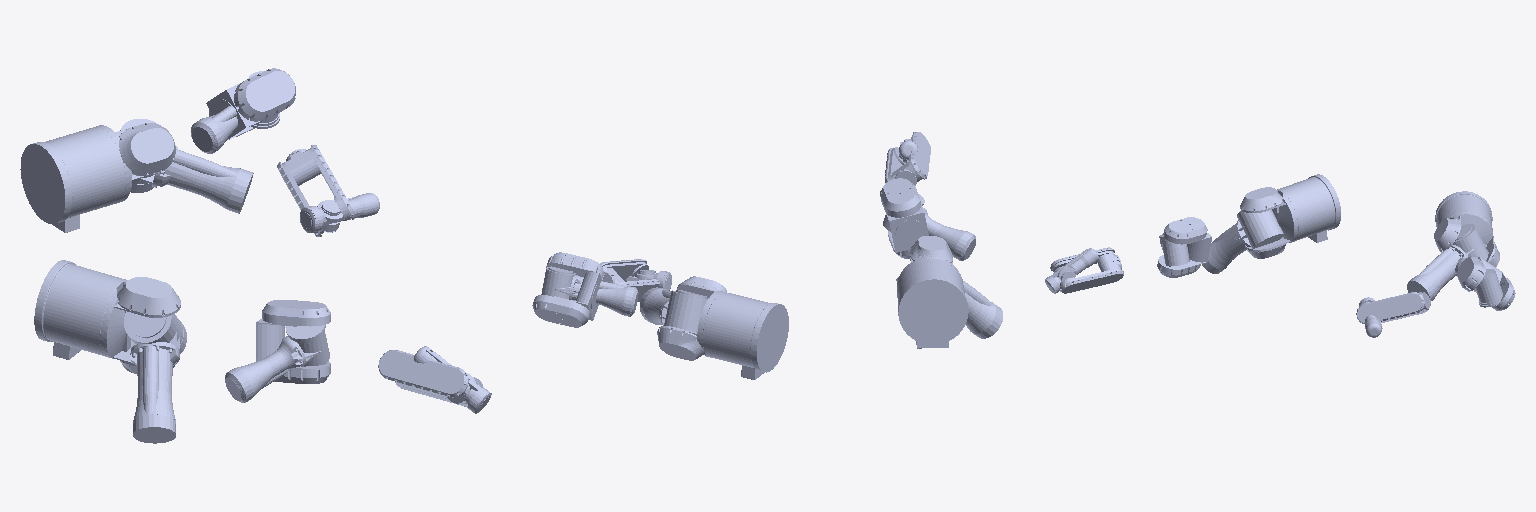
The robot description file, URDF, robot "dual_arm_pa10":
<robot
  name="dual_arm_pa10">
  <link
    name="base_link">
    <inertial>
      <origin
        xyz="-0.555507522352584 -1.65042128673303 -0.217101228771685"
        rpy="0 0 0" />
      <mass
        value="97.6917917377576" />
      <inertia
        ixx="40.4740750778419"
        ixy="-0.229482797122451"
        ixz="-16.9093482209195"
        iyy="45.3093503314469"
        iyz="7.1380697923764"
        izz="30.5785915439064" />
    </inertial>
    <visual>
      <origin
        xyz="0 0 0"
        rpy="0 0 0" />
      <geometry>
        <mesh
          filename="package://dual_arm_pa10_description/meshes/base_link.STL" />
      </geometry>
      <material
        name="">
        <color
          rgba="0.752941176470588 0.752941176470588 0.752941176470588 1" />
      </material>
    </visual>
    <collision>
      <origin
        xyz="0 0 0"
        rpy="0 0 0" />
      <geometry>
        <mesh
          filename="package://dual_arm_pa10_description/meshes/base_link.STL" />
      </geometry>
    </collision>
  </link>
  <link
    name="left_arm_link1">
    <inertial>
      <origin
        xyz="-0.0990893449544722 -0.00249341785325718 -0.0014162454500033"
        rpy="0 0 0" />
      <mass
        value="7.94934699323051" />
      <inertia
        ixx="0.0504677524184006"
        ixy="-0.000774791198524652"
        ixz="-0.000440076287254469"
        iyy="0.0516876870322434"
        iyz="0.00109756557708091"
        izz="0.0529966322188422" />
    </inertial>
    <visual>
      <origin
        xyz="0 0 0"
        rpy="0 0 0" />
      <geometry>
        <mesh
          filename="package://dual_arm_pa10_description/meshes/left_arm_link1.STL" />
      </geometry>
      <material
        name="">
        <color
          rgba="0.796078431372549 0.823529411764706 0.937254901960784 1" />
      </material>
    </visual>
    <collision>
      <origin
        xyz="0 0 0"
        rpy="0 0 0" />
      <geometry>
        <mesh
          filename="package://dual_arm_pa10_description/meshes/left_arm_link1.STL" />
      </geometry>
    </collision>
  </link>
  <joint
    name="left_arm_joint1"
    type="fixed">
    <origin
      xyz="-0.825145544061466 -1.25307055504876 0.636477580278836"
      rpy="1.5707963267949 0.0284335968117168 -3.09514696623158" />
    <parent
      link="base_link" />
    <child
      link="left_arm_link1" />
    <axis
      xyz="0 0 0" />
  </joint>
  <link
    name="left_arm_link2">
    <inertial>
      <origin
        xyz="-0.264301619913095 -2.76250164082947E-05 -9.6935392693176E-05"
        rpy="0 0 0" />
      <mass
        value="2.7310377376062" />
      <inertia
        ixx="0.0244683816547645"
        ixy="-6.49243268067506E-06"
        ixz="-2.50224500514501E-06"
        iyy="0.0141012726454577"
        iyz="-0.00566836100673695"
        izz="0.0240473671043853" />
    </inertial>
    <visual>
      <origin
        xyz="0 0 0"
        rpy="0 0 0" />
      <geometry>
        <mesh
          filename="package://dual_arm_pa10_description/meshes/left_arm_link2.STL" />
      </geometry>
      <material
        name="">
        <color
          rgba="0.796078431372549 0.823529411764706 0.937254901960784 1" />
      </material>
    </visual>
    <collision>
      <origin
        xyz="0 0 0"
        rpy="0 0 0" />
      <geometry>
        <mesh
          filename="package://dual_arm_pa10_description/meshes/left_arm_link2.STL" />
      </geometry>
    </collision>
  </link>
  <joint
    name="left_arm_joint2"
    type="revolute">
    <origin
      xyz="0 0 0"
      rpy="-2.1684E-19 0 -3.4423E-18" />
    <parent
      link="left_arm_link1" />
    <child
      link="left_arm_link2" />
    <axis
      xyz="1 0 0" />
    <limit
      upper="3.08823"
      lower="-3.08823" 
      effort="10000"
      velocity="10" />
  </joint>
  <link
    name="left_arm_link3">
    <inertial>
      <origin
        xyz="-0.0437020078273007 0.0201807384969035 0.0919936313948935"
        rpy="0 0 0" />
      <mass
        value="4.68020201917654" />
      <inertia
        ixx="0.0640552019140096"
        ixy="4.05206905839881E-07"
        ixz="1.57128361053048E-06"
        iyy="0.0638016370383407"
        iyz="0.0115019100601524"
        izz="0.0139090195725392" />
    </inertial>
    <visual>
      <origin
        xyz="0 0 0"
        rpy="0 0 0" />
      <geometry>
        <mesh
          filename="package://dual_arm_pa10_description/meshes/left_arm_link3.STL" />
      </geometry>
      <material
        name="">
        <color
          rgba="0.796078431372549 0.823529411764706 0.937254901960784 1" />
      </material>
    </visual>
    <collision>
      <origin
        xyz="0 0 0"
        rpy="0 0 0" />
      <geometry>
        <mesh
          filename="package://dual_arm_pa10_description/meshes/left_arm_link3.STL" />
      </geometry>
    </collision>
  </link>
  <joint
    name="left_arm_joint3"
    type="revolute">
    <origin
      xyz="-0.315500000000003 -0.0410165202636339 0.0185106743659957"
      rpy="1.63982850832689 -0.423929613598005 -1.5707963267949" />
    <parent
      link="left_arm_link2" />
    <child
      link="left_arm_link3" />
    <axis
      xyz="-1 0 0" />
        <limit
      upper="1.58725" 
      lower="-1.58725" 
      effort="10000"
      velocity="10" />
  </joint>
  <link
    name="left_arm_link4">
    <inertial>
      <origin
        xyz="0.0770144259784842 0.00148626917704375 0.000635508689203812"
        rpy="0 0 0" />
      <mass
        value="2.35409067807949" />
      <inertia
        ixx="0.0145010964698539"
        ixy="0.000250497590177181"
        ixz="8.57909539156733E-05"
        iyy="0.00960614995288886"
        iyz="0.00282720741589722"
        izz="0.0180549888659777" />
    </inertial>
    <visual>
      <origin
        xyz="0 0 0"
        rpy="0 0 0" />
      <geometry>
        <mesh
          filename="package://dual_arm_pa10_description/meshes/left_arm_link4.STL" />
      </geometry>
      <material
        name="">
        <color
          rgba="0.796078431372549 0.823529411764706 0.937254901960784 1" />
      </material>
    </visual>
    <collision>
      <origin
        xyz="0 0 0"
        rpy="0 0 0" />
      <geometry>
        <mesh
          filename="package://dual_arm_pa10_description/meshes/left_arm_link4.STL" />
      </geometry>
    </collision>
  </link>
  <joint
    name="left_arm_joint4"
    type="revolute">
    <origin
      xyz="-0.0419999999999998 0.0674051292770802 0.307192634172875"
      rpy="-0.416063817143622 -1.35479645114884 1.5707963267949" />
    <parent
      link="left_arm_link3" />
    <child
      link="left_arm_link4" />
    <axis
      xyz="-1 0 0" />
        <limit
      upper="3.03587" 
      lower="-3.03587"
      effort="10000"
      velocity="10" />
  </joint>
  <link
    name="left_arm_link5">
    <inertial>
      <origin
        xyz="0.0557957612103193 -0.0847616079886823 -0.00203557437514561"
        rpy="0 0 0" />
      <mass
        value="2.05851591363861" />
      <inertia
        ixx="0.0201272337149153"
        ixy="0.000608483891747073"
        ixz="1.56384202641586E-05"
        iyy="0.0029354076975442"
        iyz="0.000430074997588907"
        izz="0.0208996370775355" />
    </inertial>
    <visual>
      <origin
        xyz="0 0 0"
        rpy="0 0 0" />
      <geometry>
        <mesh
          filename="package://dual_arm_pa10_description/meshes/left_arm_link5.STL" />
      </geometry>
      <material
        name="">
        <color
          rgba="0.796078431372549 0.823529411764706 0.937254901960784 1" />
      </material>
    </visual>
    <collision>
      <origin
        xyz="0 0 0"
        rpy="0 0 0" />
      <geometry>
        <mesh
          filename="package://dual_arm_pa10_description/meshes/left_arm_link5.STL" />
      </geometry>
    </collision>
  </link>
  <joint
    name="left_arm_joint5"
    type="revolute">
    <origin
      xyz="0.136002290415426 0.0535829126405543 0.0162748824339065"
      rpy="-1.27491991617733 0.295199821145676 -1.57079632679489" />
    <parent
      link="left_arm_link4" />
    <child
      link="left_arm_link5" />
    <axis
      xyz="-1 0 0" />
        <limit
      upper="2.3901"
      lower="-2.3901" 
      effort="10000"
      velocity="10" />
  </joint>
  <link
    name="left_arm_link6">
    <inertial>
      <origin
        xyz="-0.114795470764761 0.000699693476092333 -2.73723221239502E-05"
        rpy="0 0 0" />
      <mass
        value="1.371197775989" />
      <inertia
        ixx="0.00333020319367068"
        ixy="-0.000116558855928963"
        ixz="-1.31426888505106E-05"
        iyy="0.00964721971591787"
        iyz="0.000251722579386805"
        izz="0.0117227531202603" />
    </inertial>
    <visual>
      <origin
        xyz="0 0 0"
        rpy="0 0 0" />
      <geometry>
        <mesh
          filename="package://dual_arm_pa10_description/meshes/left_arm_link6.STL" />
      </geometry>
      <material
        name="">
        <color
          rgba="0.796078431372549 0.823529411764706 0.937254901960784 1" />
      </material>
    </visual>
    <collision>
      <origin
        xyz="0 0 0"
        rpy="0 0 0" />
      <geometry>
        <mesh
          filename="package://dual_arm_pa10_description/meshes/left_arm_link6.STL" />
      </geometry>
    </collision>
  </link>
  <joint
    name="left_arm_joint6"
    type="revolute">
    <origin
      xyz="0.0539997253029847 -0.261425869680373 -0.00623452178610013"
      rpy="-0.00757901029071751 -0.0238437178004684 1.5707963267949" />
    <parent
      link="left_arm_link5" />
    <child
      link="left_arm_link6" />
    <axis
      xyz="-1 0 0" />
        <limit
      upper="4.44059"
      lower="-4.44059" 
      effort="10000"
      velocity="10" />
  </joint>
  <link
    name="left_arm_link7">
    <inertial>
      <origin
        xyz="-0.00535247907135394 0.0191560955756953 -0.0247380697968124"
        rpy="0 0 0" />
      <mass
        value="0.749475997606934" />
      <inertia
        ixx="0.00379347780322518"
        ixy="1.75350974225649E-05"
        ixz="-2.3095980648119E-05"
        iyy="0.00260859869436425"
        iyz="-0.0016092467697378"
        izz="0.00159284506892114" />
    </inertial>
    <visual>
      <origin
        xyz="0 0 0"
        rpy="0 0 0" />
      <geometry>
        <mesh
          filename="package://dual_arm_pa10_description/meshes/left_arm_link7.STL" />
      </geometry>
      <material
        name="">
        <color
          rgba="0.796078431372549 0.823529411764706 0.937254901960784 1" />
      </material>
    </visual>
    <collision>
      <origin
        xyz="0 0 0"
        rpy="0 0 0" />
      <geometry>
        <mesh
          filename="package://dual_arm_pa10_description/meshes/left_arm_link7.STL" />
      </geometry>
    </collision>
  </link>
  <joint
    name="left_arm_joint7"
    type="revolute">
    <origin
      xyz="-0.238499999999999 0.00410291994215894 0.000373839717370386"
      rpy="-2.78411821151897 -0.118985412396407 1.57079632679489" />
    <parent
      link="left_arm_link6" />
    <child
      link="left_arm_link7" />
    <axis
      xyz="-1 0 0" />
        <limit
      upper="2.87979"
      lower="-2.87979" 
      effort="10000"
      velocity="10" />
  </joint>
  <link
    name="right_arm_link1">
    <inertial>
      <origin
        xyz="-0.0990893449885417 -0.00221210203872302 0.00182468787374401"
        rpy="0 0 0" />
      <mass
        value="7.94934695709389" />
      <inertia
        ixx="0.0504677520230315"
        ixy="-0.000687376581381377"
        ixz="0.000566993771661591"
        iyy="0.0520991189275065"
        iyz="-0.00125455789727977"
        izz="0.052585199923649" />
    </inertial>
    <visual>
      <origin
        xyz="0 0 0"
        rpy="0 0 0" />
      <geometry>
        <mesh
          filename="package://dual_arm_pa10_description/meshes/right_arm_link1.STL" />
      </geometry>
      <material
        name="">
        <color
          rgba="0.796078431372549 0.823529411764706 0.937254901960784 1" />
      </material>
    </visual>
    <collision>
      <origin
        xyz="0 0 0"
        rpy="0 0 0" />
      <geometry>
        <mesh
          filename="package://dual_arm_pa10_description/meshes/right_arm_link1.STL" />
      </geometry>
    </collision>
  </link>
  <joint
    name="right_arm_joint1"
    type="fixed">
    <origin
      xyz="-1.11175813641434 -1.80767325399646 0.573916002170496"
      rpy="1.5707963267949 -0.0713445717041827 2.14489912813932" />
    <parent
      link="base_link" />
    <child
      link="right_arm_link1" />
    <axis
      xyz="0 0 0" />
  </joint>
  <link
    name="right_arm_link2">
    <inertial>
      <origin
        xyz="-0.26430074701895 -5.94995160773104E-05 -8.07923039869429E-05"
        rpy="0 0 0" />
      <mass
        value="2.73095645322122" />
      <inertia
        ixx="0.0244689850962347"
        ixy="-7.58935472427557E-06"
        ixz="5.07021160189337E-07"
        iyy="0.0190395298910916"
        iyz="-0.00753947534796983"
        izz="0.0191086997402152" />
    </inertial>
    <visual>
      <origin
        xyz="0 0 0"
        rpy="0 0 0" />
      <geometry>
        <mesh
          filename="package://dual_arm_pa10_description/meshes/right_arm_link2.STL" />
      </geometry>
      <material
        name="">
        <color
          rgba="0.796078431372549 0.823529411764706 0.937254901960784 1" />
      </material>
    </visual>
    <collision>
      <origin
        xyz="0 0 0"
        rpy="0 0 0" />
      <geometry>
        <mesh
          filename="package://dual_arm_pa10_description/meshes/right_arm_link2.STL" />
      </geometry>
    </collision>
  </link>
  <joint
    name="right_arm_joint2"
    type="revolute">
    <origin
      xyz="0 0 0"
      rpy="0 5.55111512312578E-17 -2.08166817117217E-17" />
    <parent
      link="right_arm_link1" />
    <child
      link="right_arm_link2" />
    <axis
      xyz="-1 0 0" />
        <limit
      upper="3.08823"
      lower="-3.08823" 
      effort="10000"
      velocity="10" />
  </joint>
  <link
    name="right_arm_link3">
    <inertial>
      <origin
        xyz="-0.0437020079839598 0.00861084777811993 0.0937866995189534"
        rpy="0 0 0" />
      <mass
        value="4.68020214054429" />
      <inertia
        ixx="0.0640552088271957"
        ixy="2.12657946344411E-07"
        ixz="1.60794191713613E-06"
        iyy="0.0658656934626095"
        iyz="0.00500527892016412"
        izz="0.0118449696339646" />
    </inertial>
    <visual>
      <origin
        xyz="0 0 0"
        rpy="0 0 0" />
      <geometry>
        <mesh
          filename="package://dual_arm_pa10_description/meshes/right_arm_link3.STL" />
      </geometry>
      <material
        name="">
        <color
          rgba="0.796078431372549 0.823529411764706 0.937254901960784 1" />
      </material>
    </visual>
    <collision>
      <origin
        xyz="0 0 0"
        rpy="0 0 0" />
      <geometry>
        <mesh
          filename="package://dual_arm_pa10_description/meshes/right_arm_link3.STL" />
      </geometry>
    </collision>
  </link>
  <joint
    name="right_arm_joint3"
    type="revolute">
    <origin
      xyz="-0.315499999999999 -0.0319368027244318 0.0317023758062656"
      rpy="1.46969946685779 -0.781711269210409 -1.5707963267949" />
    <parent
      link="right_arm_link2" />
    <child
      link="right_arm_link3" />
    <axis
      xyz="-1 0 0" />
        <limit
      upper="1.58725" 
      lower="-1.58725" 
      effort="10000"
      velocity="10" />
  </joint>
  <link
    name="right_arm_link4">
    <inertial>
      <origin
        xyz="-0.0770144192900173 -0.00146988859066011 0.000672114471354845"
        rpy="0 0 0" />
      <mass
        value="2.35409632919604" />
      <inertia
        ixx="0.0145011364648668"
        ixy="0.000248292535091203"
        ixz="-9.19838669676694E-05"
        iyy="0.00975169292051933"
        iyz="-0.00303340235564235"
        izz="0.0179094852762262" />
    </inertial>
    <visual>
      <origin
        xyz="0 0 0"
        rpy="0 0 0" />
      <geometry>
        <mesh
          filename="package://dual_arm_pa10_description/meshes/right_arm_link4.STL" />
      </geometry>
      <material
        name="">
        <color
          rgba="0.796078431372549 0.823529411764706 0.937254901960784 1" />
      </material>
    </visual>
    <collision>
      <origin
        xyz="0 0 0"
        rpy="0 0 0" />
      <geometry>
        <mesh
          filename="package://dual_arm_pa10_description/meshes/right_arm_link4.STL" />
      </geometry>
    </collision>
  </link>
  <joint
    name="right_arm_joint4"
    type="revolute">
    <origin
      xyz="-0.042 0.0287698185108878 0.313182157036093"
      rpy="-2.3594227330078 1.47919053867106 -1.57079632679489" />
    <parent
      link="right_arm_link3" />
    <child
      link="right_arm_link4" />
    <axis
      xyz="-1 0 0" />
        <limit
      upper="3.03587" 
      lower="-3.03587"
      effort="10000"
      velocity="10" />
  </joint>
  <link
    name="right_arm_link5">
    <inertial>
      <origin
        xyz="-0.0487042375150544 -0.00360759548777567 -0.0847092564993757"
        rpy="0 0 0" />
      <mass
        value="2.05851565958655" />
      <inertia
        ixx="0.0201272331122399"
        ixy="2.48730564349846E-05"
        ixz="0.000608177417062807"
        iyy="0.0208772346589002"
        iyz="0.000766134011295065"
        izz="0.00295781712603303" />
    </inertial>
    <visual>
      <origin
        xyz="0 0 0"
        rpy="0 0 0" />
      <geometry>
        <mesh
          filename="package://dual_arm_pa10_description/meshes/right_arm_link5.STL" />
      </geometry>
      <material
        name="">
        <color
          rgba="0.796078431372549 0.823529411764706 0.937254901960784 1" />
      </material>
    </visual>
    <collision>
      <origin
        xyz="0 0 0"
        rpy="0 0 0" />
      <geometry>
        <mesh
          filename="package://dual_arm_pa10_description/meshes/right_arm_link5.STL" />
      </geometry>
    </collision>
  </link>
  <joint
    name="right_arm_joint5"
    type="revolute">
    <origin
      xyz="-0.136002290415432 0.0460318440149761 -0.0152748048060705"
      rpy="1.36781816034305 0.320026211951604 1.5707963267949" />
    <parent
      link="right_arm_link4" />
    <child
      link="right_arm_link5" />
    <limit
      upper="2.3901" 
     lower="-2.3901" 
      effort="10000"
      velocity="10" />
    <axis
      xyz="-1 0 0" />
  </joint>
  <link
    name="right_arm_link6">
    <inertial>
      <origin
        xyz="-0.123795462653187 0.000155037947671355 0.000682873705954767"
        rpy="0 0 0" />
      <mass
        value="1.37119769202921" />
      <inertia
        ixx="0.00333020300274464"
        ixy="-8.46849313525913E-06"
        ixz="-0.000116991533531673"
        iyy="0.0117436785375504"
        iyz="0.000139614984425959"
        izz="0.00962629185761271" />
    </inertial>
    <visual>
      <origin
        xyz="0 0 0"
        rpy="0 0 0" />
      <geometry>
        <mesh
          filename="package://dual_arm_pa10_description/meshes/right_arm_link6.STL" />
      </geometry>
      <material
        name="">
        <color
          rgba="0.796078431372549 0.823529411764706 0.937254901960784 1" />
      </material>
    </visual>
    <collision>
      <origin
        xyz="0 0 0"
        rpy="0 0 0" />
      <geometry>
        <mesh
          filename="package://dual_arm_pa10_description/meshes/right_arm_link6.STL" />
      </geometry>
    </collision>
  </link>
  <joint
    name="right_arm_joint6"
    type="revolute">
    <origin
      xyz="-0.0505000000000002 -0.0107859770313061 -0.252269724104025"
      rpy="-2.81559765910584 -1.52806669745706 1.5707963267949" />
    <parent
      link="right_arm_link5" />
    <child
      link="right_arm_link6" />
    <axis
      xyz="-1 0 0" />
        <limit
      upper="4.44059"
      lower="-4.44059" 
      effort="10000"
      velocity="10" />
  </joint>
  <link
    name="right_arm_link7">
    <inertial>
      <origin
        xyz="-0.0142341914721571 -0.00905767585248796 -0.0299480722277288"
        rpy="0 0 0" />
      <mass
        value="0.749476057175215" />
      <inertia
        ixx="0.00379347797034595"
        ixy="-8.65896280890235E-06"
        ixz="-2.7675376527164E-05"
        iyy="0.00345412282340719"
        iyz="0.00100792860132432"
        izz="0.000747321057415953" />
    </inertial>
    <visual>
      <origin
        xyz="0 0 0"
        rpy="0 0 0" />
      <geometry>
        <mesh
          filename="package://dual_arm_pa10_description/meshes/right_arm_link7.STL" />
      </geometry>
      <material
        name="">
        <color
          rgba="0.796078431372549 0.823529411764706 0.937254901960784 1" />
      </material>
    </visual>
    <collision>
      <origin
        xyz="0 0 0"
        rpy="0 0 0" />
      <geometry>
        <mesh
          filename="package://dual_arm_pa10_description/meshes/right_arm_link7.STL" />
      </geometry>
    </collision>
  </link>
  <joint
    name="right_arm_joint7"
    type="revolute">
    <origin
      xyz="-0.2475 0.000966955324066432 0.0129645702976229"
      rpy="-1.5845175052638 -1.50523970337924 1.57079632679485" />
    <parent
      link="right_arm_link6" />
    <child
      link="right_arm_link7" />
    <axis
      xyz="-1 0 0" />
        <limit
      upper="2.87979"
      lower="-2.87979" 
      effort="10000"
      velocity="10" />
  </joint>
</robot>

--- What the picture shows (computed from the rendered views, not written in the file) ---
The picture shows the robot from 3 angles, left to right: view 1: azimuth 30°, elevation 25°; view 2: azimuth 150°, elevation 25°; view 3: azimuth 270°, elevation 25°; orthographic projection.
Robot: dual_arm_pa10 — 15 links, 14 joints (12 revolute, 2 fixed); root link base_link; default pose: every joint at zero.
Links seen in each view (by area): view 1: left_arm_link1, right_arm_link1, right_arm_link3, left_arm_link3, right_arm_link2, right_arm_link5, right_arm_link4, left_arm_link4, right_arm_link6, left_arm_link2, left_arm_link6, left_arm_link5 (+2 smaller); view 2: left_arm_link1, right_arm_link1, left_arm_link4, right_arm_link4, left_arm_link3, left_arm_link2, left_arm_link5, right_arm_link6, right_arm_link3, right_arm_link5, left_arm_link6, right_arm_link2; view 3: right_arm_link1, right_arm_link3, left_arm_link3, right_arm_link2, right_arm_link4, left_arm_link6, right_arm_link6, left_arm_link2, left_arm_link4, left_arm_link1, right_arm_link7, left_arm_link5 (+1 smaller).
Link boxes in pixels (x1,y1,x2,y2): left_arm_link1: (20,127,125,232); right_arm_link1: (34,260,127,359); right_arm_link3: (124,311,186,443); left_arm_link3: (120,119,253,213); right_arm_link2: (100,277,180,373); right_arm_link5: (225,325,329,402); right_arm_link4: (256,300,330,383); left_arm_link4: (206,68,295,140); right_arm_link6: (378,350,482,406); left_arm_link2: (96,123,175,202); left_arm_link6: (277,145,355,236); left_arm_link5: (191,71,279,153); left_arm_link1: (703,292,788,379); right_arm_link1: (897,259,968,348); left_arm_link4: (532,252,604,327); right_arm_link4: (880,178,928,258); left_arm_link3: (640,287,708,332); left_arm_link2: (657,276,726,360); left_arm_link5: (541,266,638,316); right_arm_link6: (885,132,930,185); right_arm_link3: (896,277,1002,338); right_arm_link5: (883,194,975,260); left_arm_link6: (600,259,659,301); right_arm_link2: (897,236,962,284); right_arm_link1: (1277,174,1340,242); right_arm_link3: (1202,210,1283,273); left_arm_link3: (1407,224,1488,300); right_arm_link2: (1240,187,1297,258); right_arm_link4: (1157,217,1211,277); left_arm_link6: (1356,292,1430,323); right_arm_link6: (1050,247,1123,293); left_arm_link2: (1434,212,1499,266); left_arm_link4: (1457,256,1515,310); left_arm_link1: (1435,191,1492,230); right_arm_link7: (1045,248,1098,293); left_arm_link5: (1455,258,1502,307).
Bounding box of the posed robot: 1.24 × 1.89 × 0.4927 m (x, y, z).
14 mesh visuals loaded from 15 distinct referenced files (14 binary STL); not drawn: 1 (reference not matched to a file when rendering).